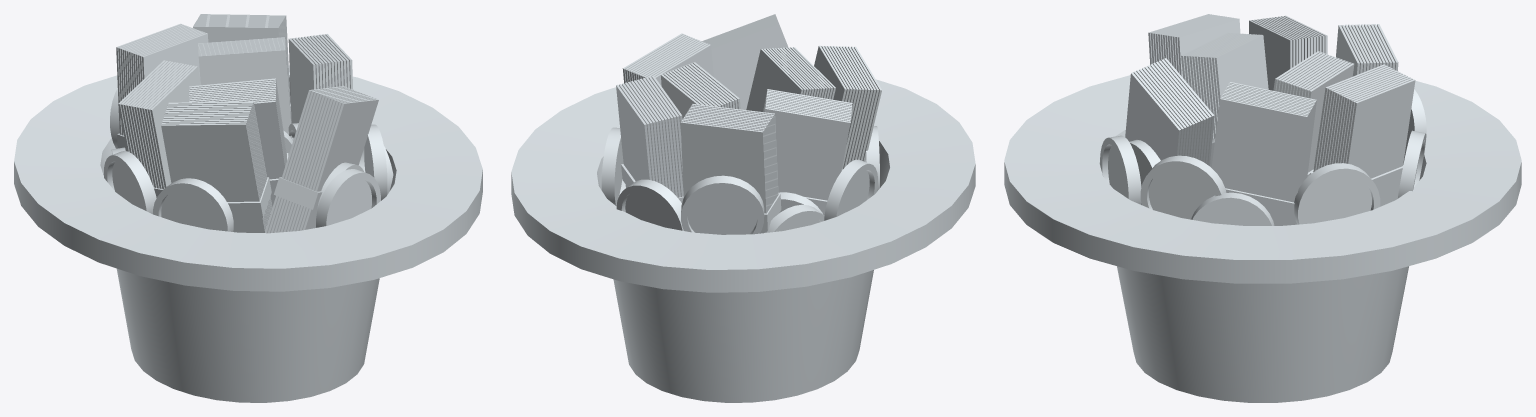
File: Hat.fbx
The picture shows the model from 3 angles, left to right: view 1: azimuth 30°, elevation 25°; view 2: azimuth 150°, elevation 25°; view 3: azimuth 270°, elevation 25°; orthographic projection. The views are drawn at different scales.
Parts seen in each view (by area): view 1: Cylinder.020, Plane.009, Plane.010, Plane.008, Plane.012, Plane.006, Plane.011, Plane.014, Cylinder.009, Cylinder.007, Plane.013, Cylinder.019 (+4 smaller); view 2: Cylinder.020, Plane.011, Plane.008, Plane.013, Cylinder.024, Plane.009, Plane.010, Plane.006, Plane.012, Plane.014, Cylinder.023, Cylinder.019 (+4 smaller); view 3: Cylinder.020, Plane.014, Plane.013, Plane.010, Plane.006, Cylinder.014, Cylinder.010, Plane.008, Plane.012, Plane.009, Plane.011, Cylinder.013 (+6 smaller).
Part boxes in pixels (x1,y1,x2,y2): Cylinder.020: [14, 65, 482, 402]; Plane.009: [161, 101, 272, 232]; Plane.010: [265, 86, 378, 233]; Plane.008: [118, 60, 201, 189]; Plane.012: [198, 37, 292, 138]; Plane.006: [189, 78, 286, 207]; Plane.011: [116, 23, 208, 135]; Plane.014: [288, 34, 353, 123]; Cylinder.009: [153, 178, 233, 231]; Cylinder.007: [316, 169, 380, 227]; Plane.013: [193, 14, 290, 104]; Cylinder.019: [103, 151, 156, 214]; Cylinder.020: [511, 79, 975, 402]; Plane.011: [680, 104, 778, 233]; Plane.008: [763, 89, 852, 200]; Plane.013: [616, 75, 683, 197]; Cylinder.024: [681, 175, 764, 234]; Plane.009: [814, 45, 881, 169]; Plane.010: [702, 14, 788, 109]; Plane.006: [746, 47, 835, 111]; Plane.012: [661, 62, 740, 118]; Plane.014: [622, 33, 713, 85]; Cylinder.023: [616, 179, 683, 230]; Cylinder.019: [824, 159, 877, 220]; Cylinder.020: [1004, 75, 1521, 402]; Plane.014: [1211, 82, 1316, 225]; Plane.013: [1313, 64, 1415, 206]; Plane.010: [1125, 58, 1214, 166]; Plane.006: [1181, 33, 1268, 139]; Cylinder.014: [1294, 163, 1380, 224]; Cylinder.010: [1140, 155, 1226, 219]; Plane.008: [1249, 15, 1327, 90]; Plane.012: [1273, 51, 1354, 172]; Plane.009: [1148, 14, 1240, 77]; Plane.011: [1336, 24, 1398, 76]; Cylinder.013: [1191, 192, 1274, 225].
Bounding box in the file's own units: 66.55 × 48.72 × 73.28.
